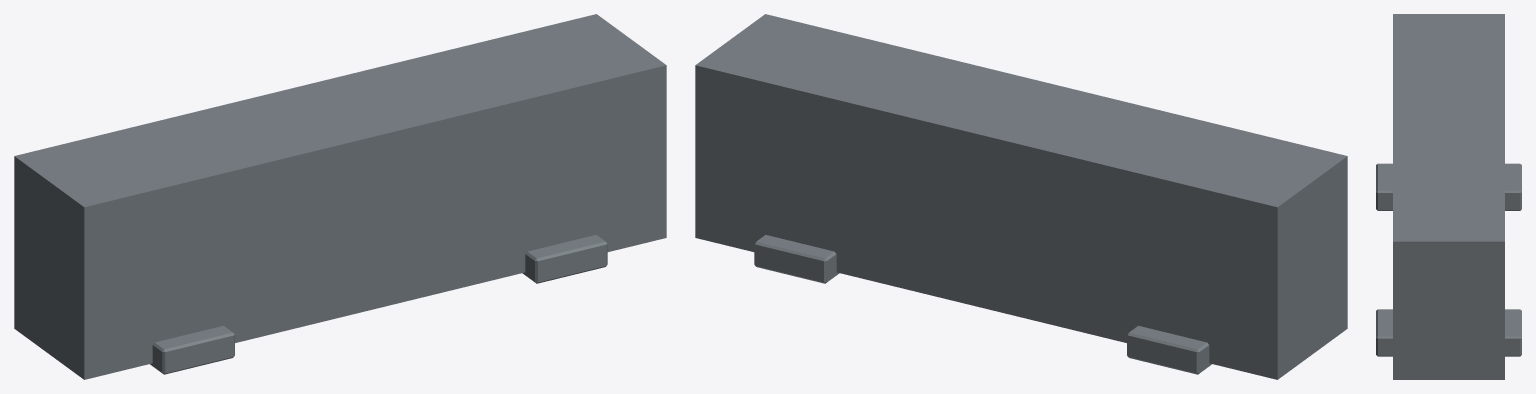
The model's file is ConcreteBarrierLong.fbx.
The picture shows the model from 3 angles, left to right: view 1: azimuth 30°, elevation 25°; view 2: azimuth 150°, elevation 25°; view 3: azimuth 270°, elevation 25°; orthographic projection. The views are drawn at different scales.
Visible parts, largest first — view 1: ConcreteBarrierLong; view 2: ConcreteBarrierLong; view 3: ConcreteBarrierLong.
Part boxes in pixels (x1,y1,x2,y2): ConcreteBarrierLong: (14,14,666,379); ConcreteBarrierLong: (695,14,1347,379); ConcreteBarrierLong: (1376,14,1521,379).
Size of the model in its own units: 240 by 70 by 65.
Materials: 1 (1 with a texture image).
